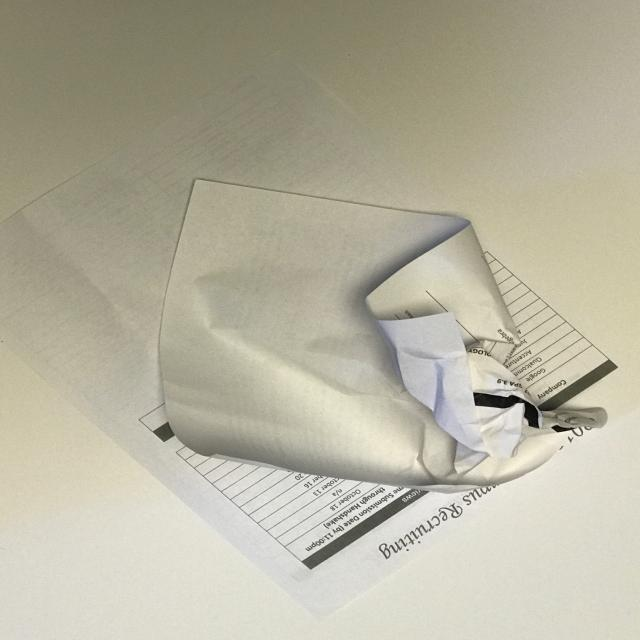paper: (0, 60, 640, 610)
